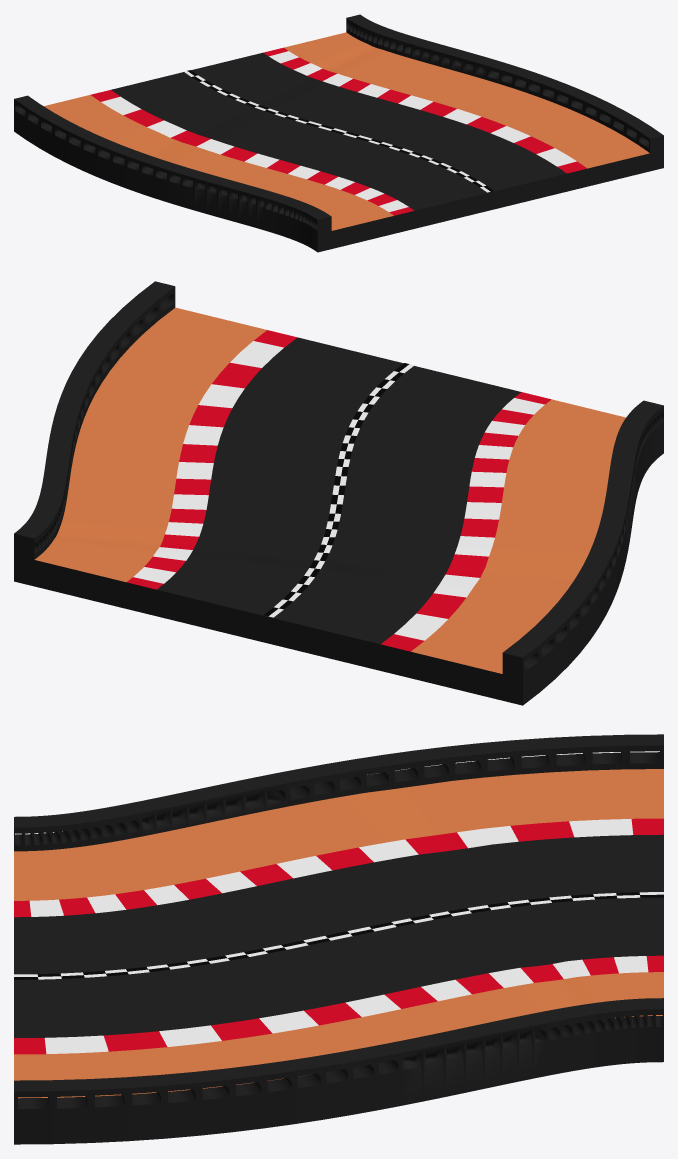
File: ModularTrackCantMediumLeft-Deux.fbx
The picture shows the model from 3 angles, top to bottom: view 1: azimuth 30°, elevation 25°; view 2: azimuth 150°, elevation 25°; view 3: azimuth 270°, elevation 25°; orthographic projection. The views are drawn at different scales.
Visible parts, largest first — view 1: ModularTrackCantMediumLeft, LaneDivider; view 2: ModularTrackCantMediumLeft, LaneDivider; view 3: ModularTrackCantMediumLeft, LaneDivider.
Part boxes in pixels (x1,y1,x2,y2): ModularTrackCantMediumLeft: (14,14,663,252); LaneDivider: (184,70,493,192); ModularTrackCantMediumLeft: (14,281,663,705); LaneDivider: (263,363,414,617); ModularTrackCantMediumLeft: (14,734,663,1144); LaneDivider: (14,892,663,979).
Bounding box in the file's own units: 1300 × 90 × 1000.
